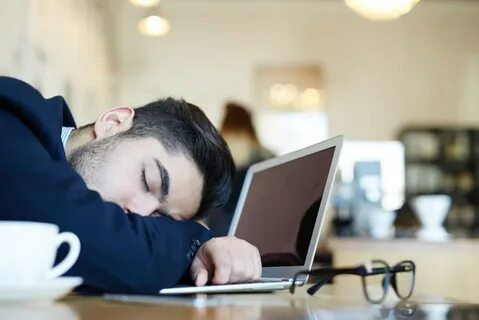sleep: (1, 88, 261, 287)
